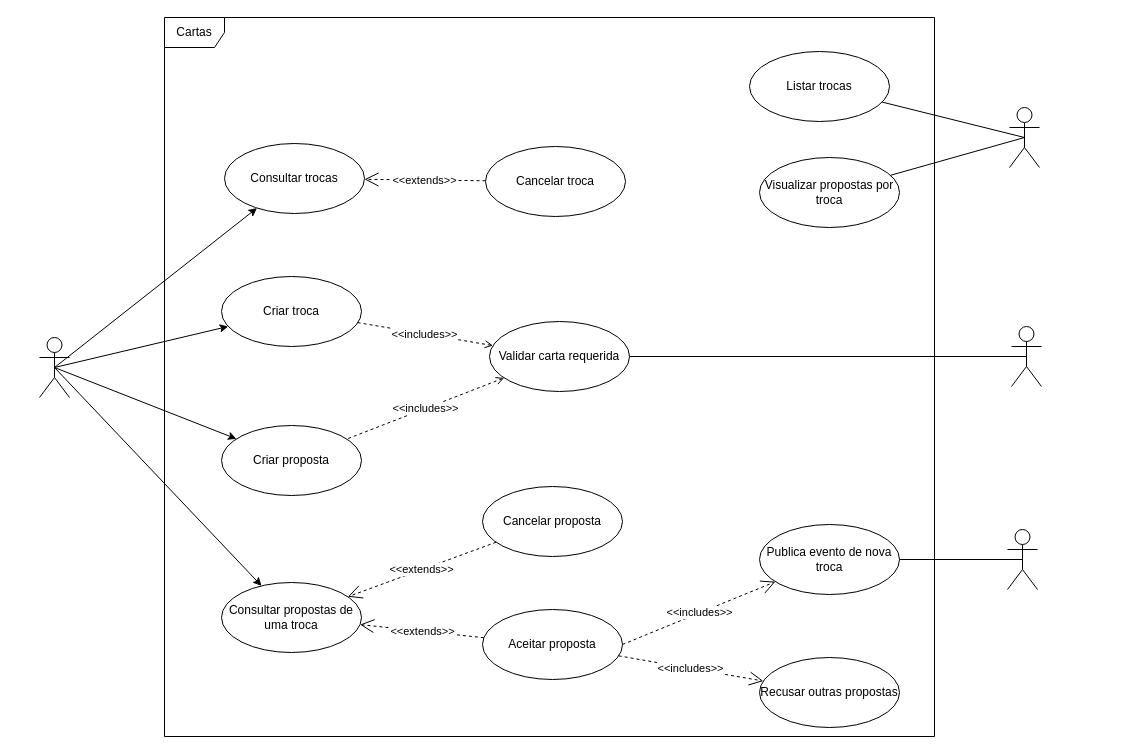
This 1128x754 diagram has some shape labels left out. The shapes that lost their labels are listed below. From the top down, each one's box as (x1, y1, x2, y2) in pixels, then its label:
(1008, 106, 1040, 168): Sistema (Painel ADM)
(38, 336, 70, 398): Sistema (Visualização de trocas)
(1010, 326, 1042, 386): Sistema (Distribuição de cartas)
(1006, 528, 1038, 590): Sistema (Broker)
